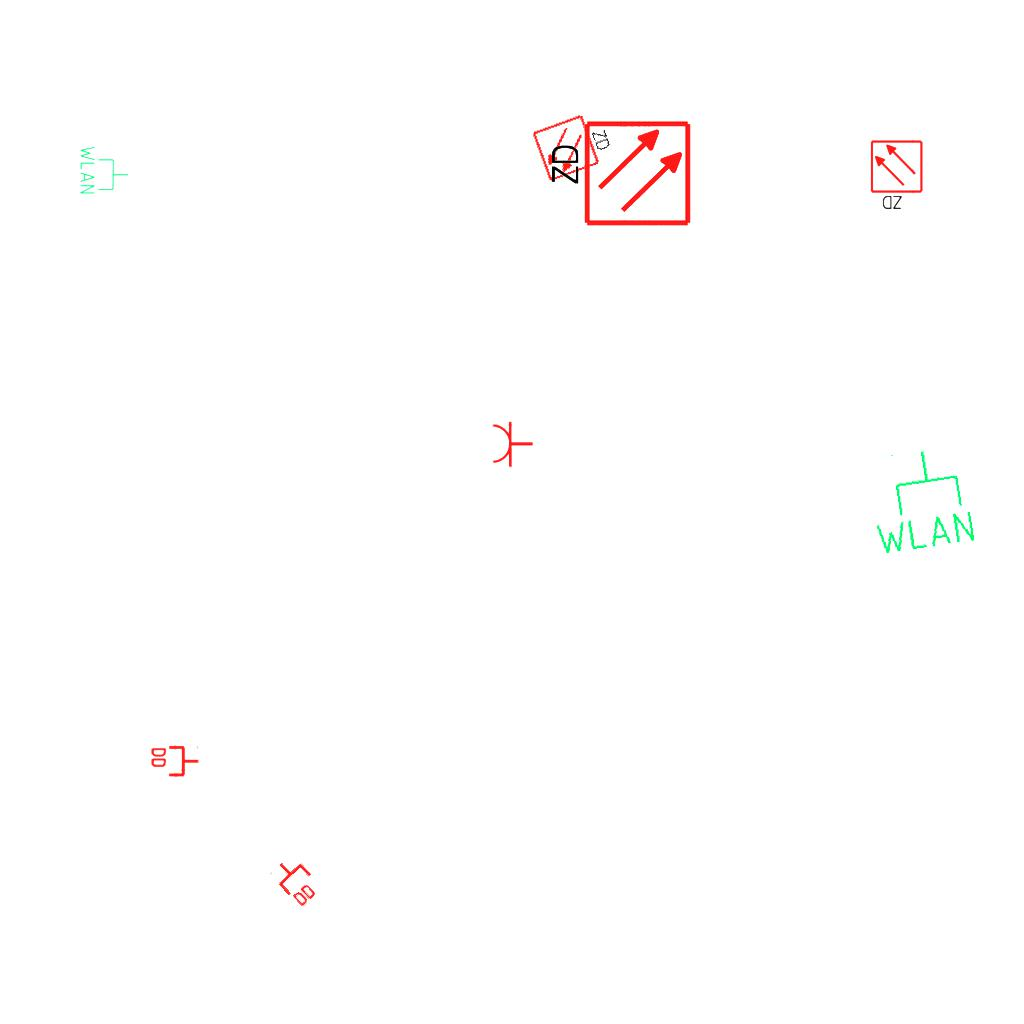Datenanschluss_zweifach: (267, 850, 327, 911), (149, 745, 200, 779)
Schukosteckdose_einfach: (491, 418, 534, 468)
WLAN: (860, 440, 980, 561), (78, 144, 130, 196)
ZD_Melder_in_Zwischendecke_mit_Revisionsoeffnung_mind_40_x_40_cm: (544, 118, 693, 232), (529, 104, 620, 184), (869, 139, 926, 213)
